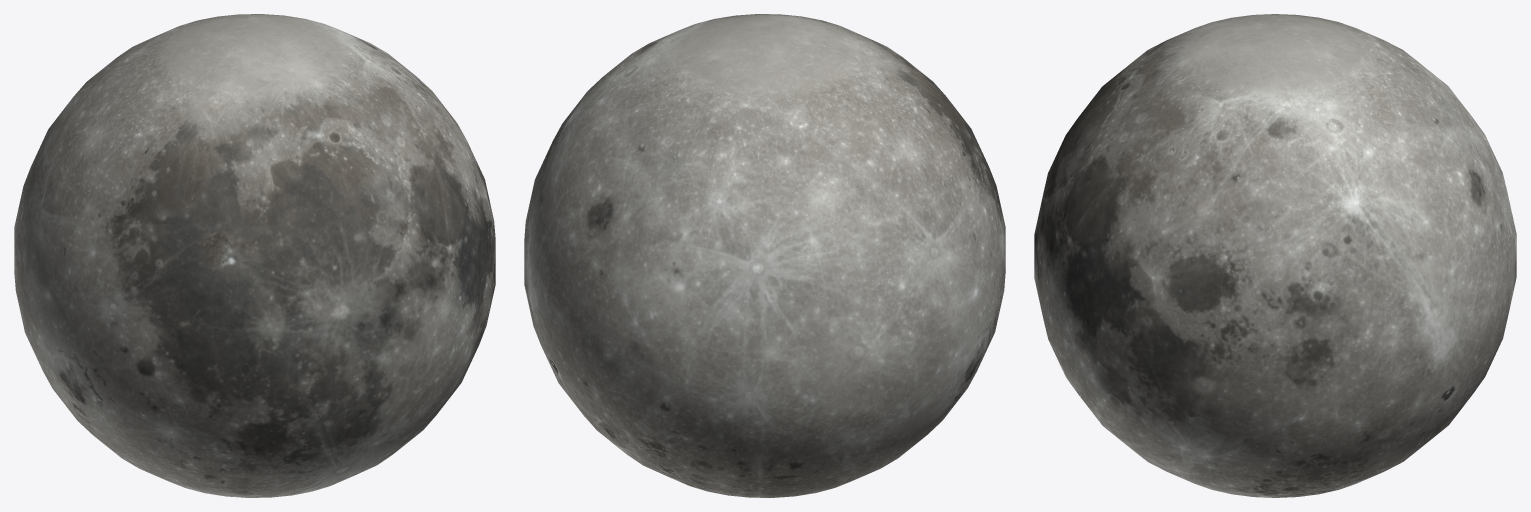
Rendered from moon.glb.
3 renders of one model, left to right at view 1: azimuth 30°, elevation 25°; view 2: azimuth 150°, elevation 25°; view 3: azimuth 270°, elevation 25°, orthographic.
Visible parts, largest first — view 1: Moon_low; view 2: Moon_low; view 3: Moon_low.
Boxes of the visible parts, x1,y1,x2,y2 form: Moon_low: (14, 14, 495, 497); Moon_low: (524, 14, 1005, 497); Moon_low: (1034, 14, 1516, 497).
Bounding box in the file's own units: 0.6336 × 0.6366 × 0.6336.
Materials: 1 (1 with a texture image).
